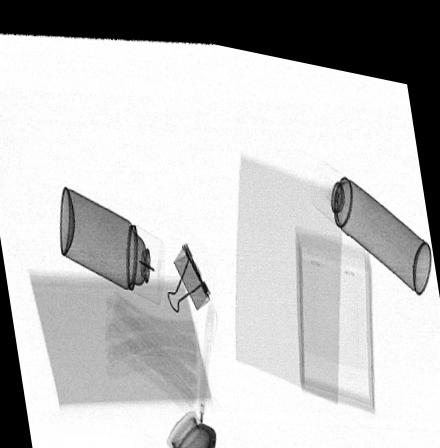Sprayer: (310, 144, 431, 276), (59, 184, 164, 297)
